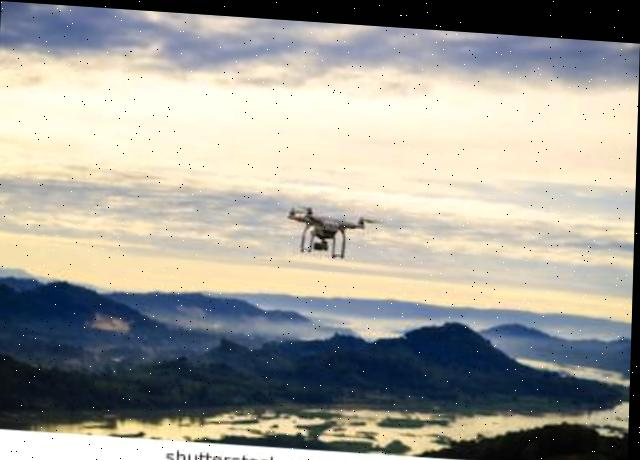drone: (272, 179, 389, 270)
